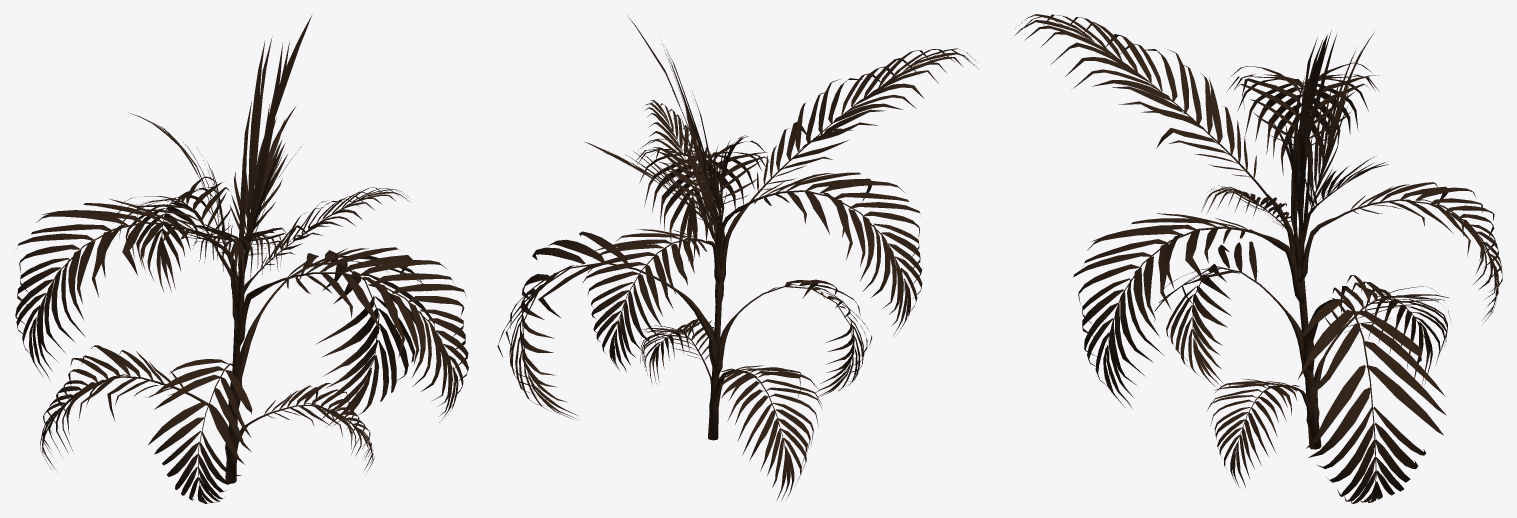
Rendered from plant7.fbx.
The picture shows the model from 3 angles, left to right: view 1: azimuth 30°, elevation 25°; view 2: azimuth 150°, elevation 25°; view 3: azimuth 270°, elevation 25°; orthographic projection. The views are drawn at different scales.
Visible parts, largest first — view 1: plant7; view 2: plant7; view 3: plant7.
Part boxes in pixels (<box>): plant7: <box>15,15,468,503</box>; plant7: <box>497,15,978,500</box>; plant7: <box>1013,14,1502,503</box>.
Bounding box in the file's own units: 3.39 × 3.5 × 3.39.
